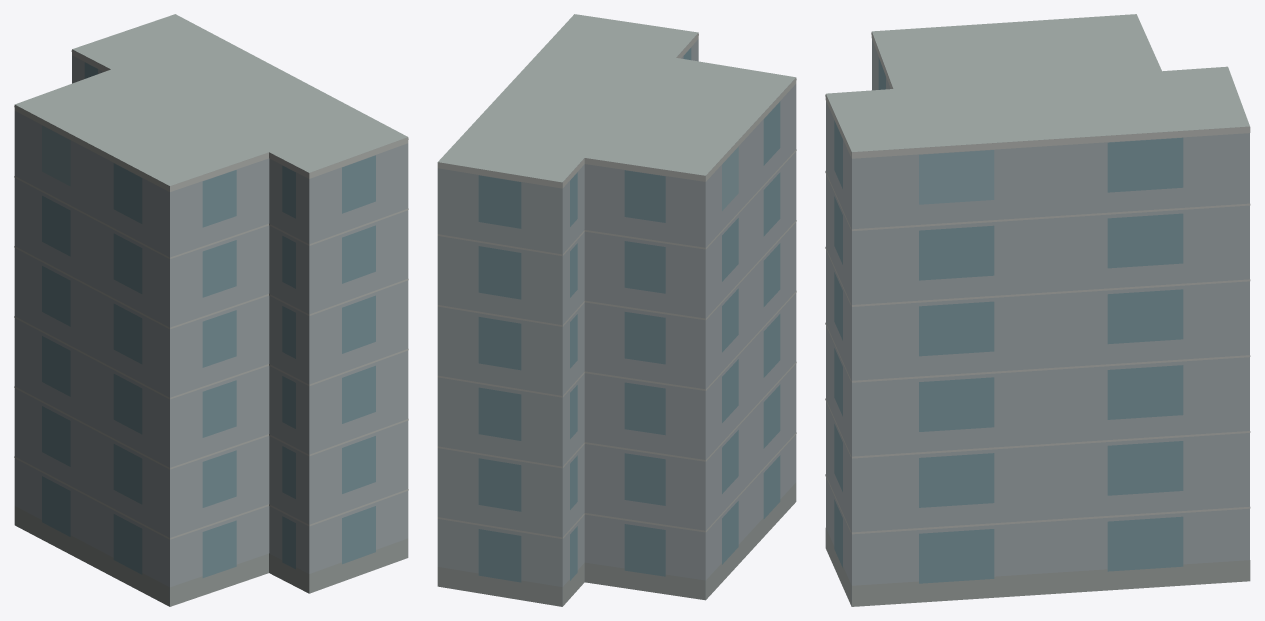
Rendered from survey-upis-32798144.glb.
3 views of the same model, side by side, from view 1: azimuth 30°, elevation 25°; view 2: azimuth 150°, elevation 25°; view 3: azimuth 270°, elevation 25° (orthographic). The views are drawn at different scales.
Parts seen in each view (by area): view 1: survey-upis-32798144.tmp; view 2: survey-upis-32798144.tmp; view 3: survey-upis-32798144.tmp.
Boxes of the visible parts, x1,y1,x2,y2 form: survey-upis-32798144.tmp: (14,14,408,606); survey-upis-32798144.tmp: (437,14,796,606); survey-upis-32798144.tmp: (825,14,1250,606).
Bounding box in the file's own units: 11.01 × 16.85 × 14.28.
